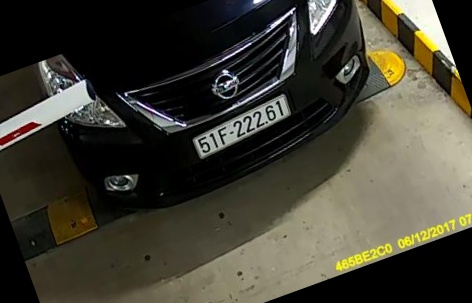plate: (190, 90, 296, 163)
